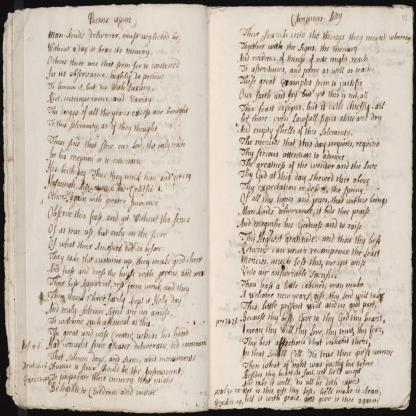book: (3, 0, 412, 411)
